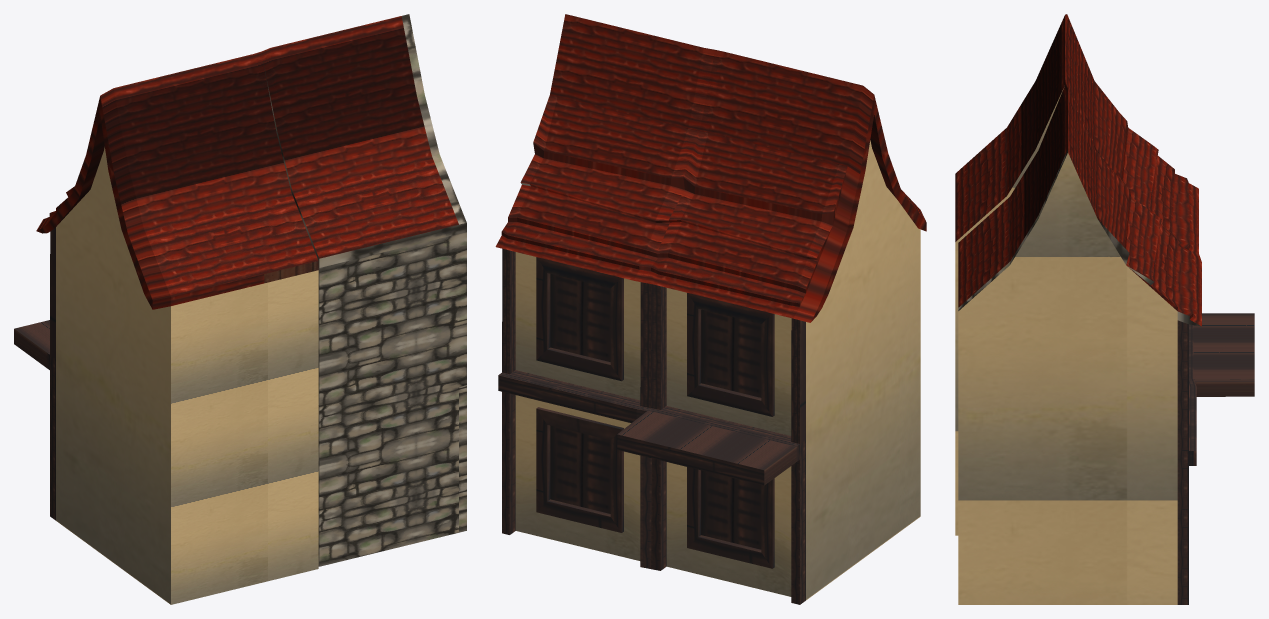
The model's file is tBldg1.fbx.
The picture shows the model from 3 angles, left to right: view 1: azimuth 30°, elevation 25°; view 2: azimuth 150°, elevation 25°; view 3: azimuth 270°, elevation 25°; orthographic projection. The views are drawn at different scales.
Parts seen in each view (by area): view 1: Cube.017; view 2: Cube.017; view 3: Cube.017.
Boxes of the visible parts, x1,y1,x2,y2 form: Cube.017: (14,14,466,604); Cube.017: (495,14,926,604); Cube.017: (955,14,1254,604).
Bounding box in the file's own units: 715 × 1049 × 628.
